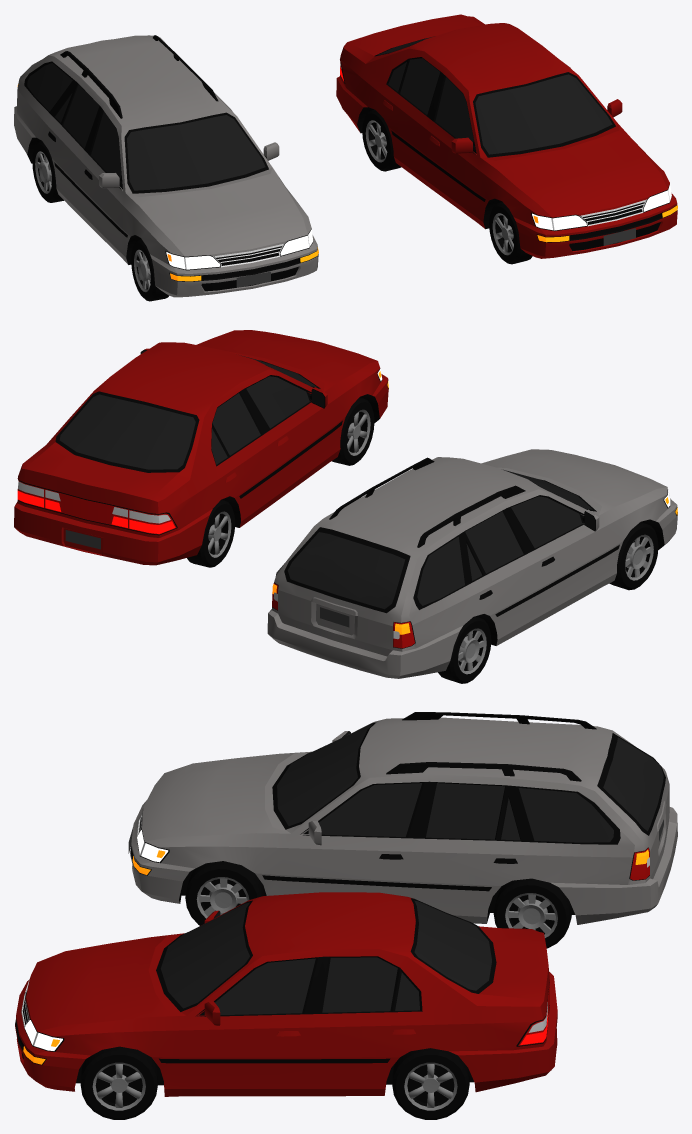
The model's file is sedan.glb.
3 views of the same model, one above another, from view 1: azimuth 30°, elevation 25°; view 2: azimuth 150°, elevation 25°; view 3: azimuth 270°, elevation 25° (orthographic). The views are drawn at different scales.
Parts seen in each view (by area): view 1: Cube.005, Cube.004, Cylinder.006, Cylinder.007, Cylinder.002, Cylinder.003; view 2: Cube.004, Cube.005, Cylinder.002, Cylinder.003, Cylinder.007, Cylinder.006; view 3: Cube.005, Cube.004, Cylinder.004, Cylinder.005, Cylinder.001, Cylinder.
Part boxes in pixels (x1,y1,x2,y2): Cube.005: (336, 14, 677, 258); Cube.004: (14, 35, 318, 297); Cylinder.006: (489, 202, 532, 264); Cylinder.007: (362, 109, 401, 171); Cylinder.002: (131, 239, 168, 301); Cylinder.003: (32, 141, 63, 202); Cube.004: (267, 449, 677, 678); Cube.005: (14, 330, 388, 565); Cylinder.002: (609, 522, 658, 590); Cylinder.003: (438, 616, 491, 683); Cylinder.007: (187, 499, 235, 567); Cylinder.006: (332, 397, 374, 465); Cube.005: (15, 892, 557, 1096); Cube.004: (128, 712, 677, 924); Cylinder.004: (80, 1046, 157, 1119); Cylinder.005: (392, 1048, 469, 1119); Cylinder.001: (493, 878, 572, 948); Cylinder: (185, 861, 264, 925).
Bounding box in the file's own units: 5.24 × 1.44 × 5.21.
